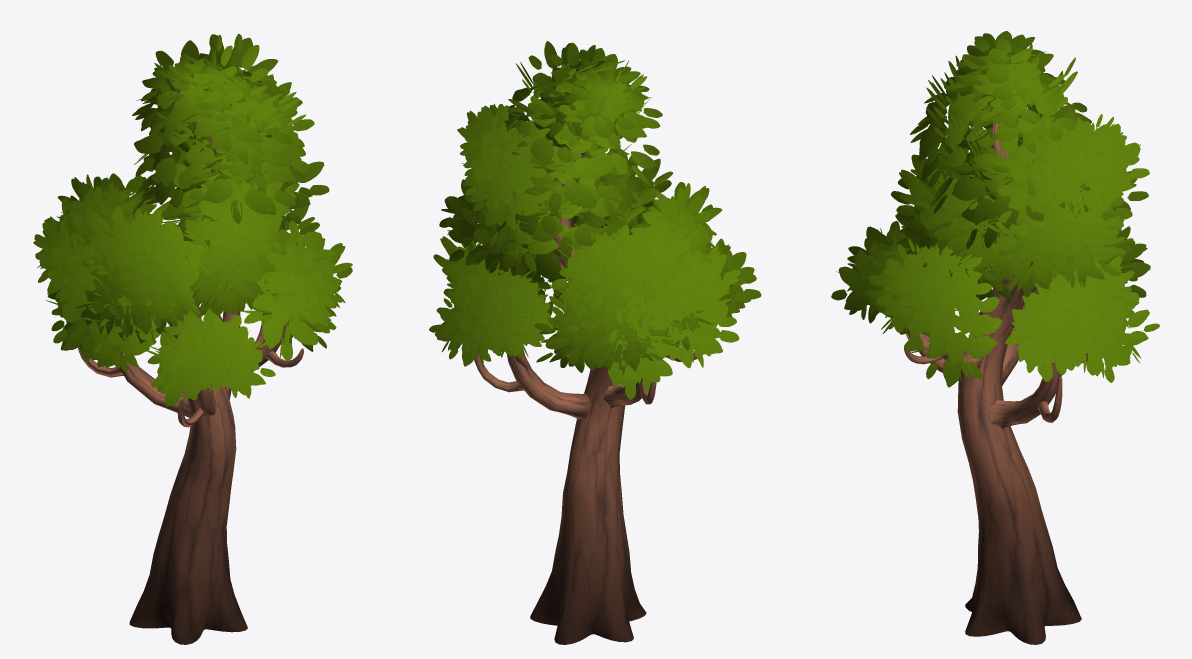
The model's file is CommonTree_2.glb.
3 renders of one model, left to right at view 1: azimuth 30°, elevation 25°; view 2: azimuth 150°, elevation 25°; view 3: azimuth 270°, elevation 25°, orthographic. The views are drawn at different scales.
Parts seen in each view (by area): view 1: CommonTree_2; view 2: CommonTree_2; view 3: CommonTree_2.
Part boxes in pixels (x1,y1,x2,y2): CommonTree_2: [33, 34, 352, 644]; CommonTree_2: [429, 41, 761, 644]; CommonTree_2: [831, 31, 1159, 644].
Size of the model in its own units: 4.46 by 7.64 by 4.28.
2 materials, 2 textured.
